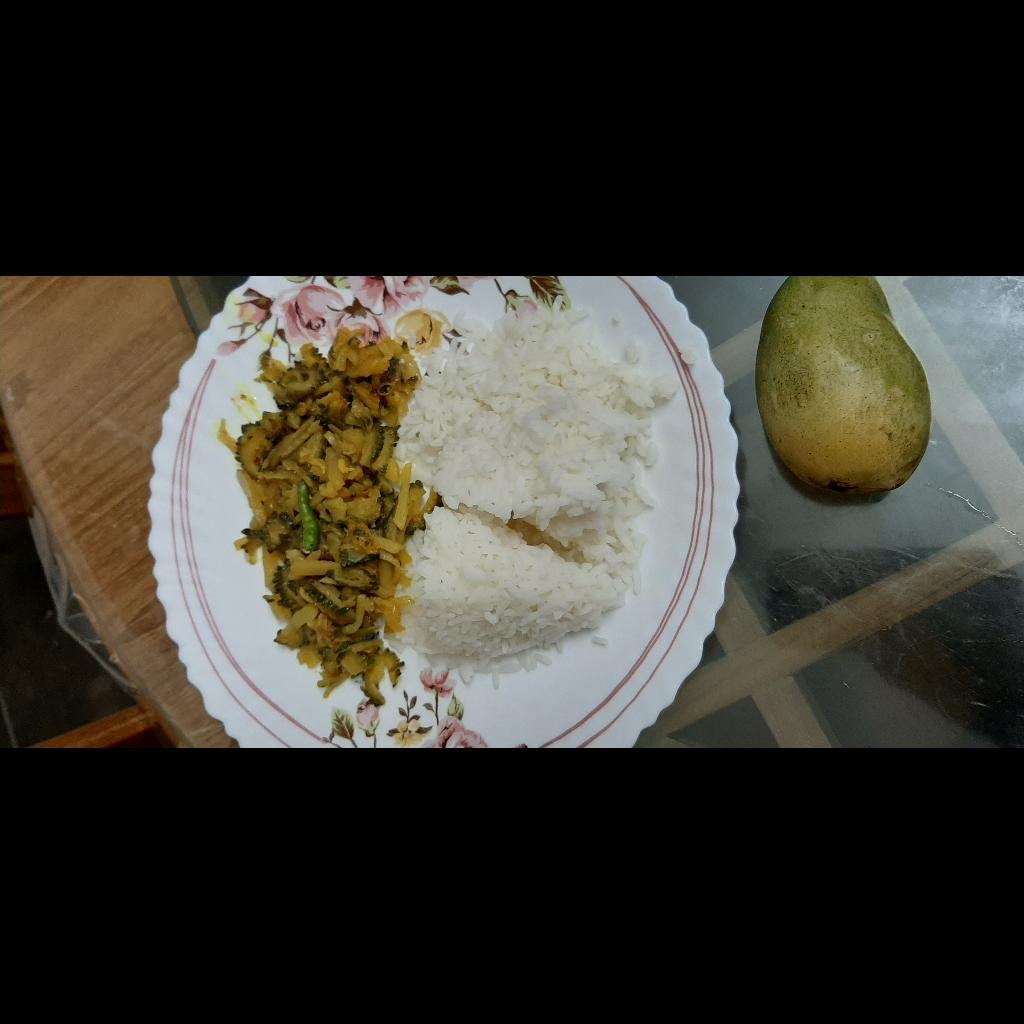korola-vaji: (45, 506, 435, 699)
potato: (113, 589, 324, 703)
rice: (67, 670, 451, 951)
